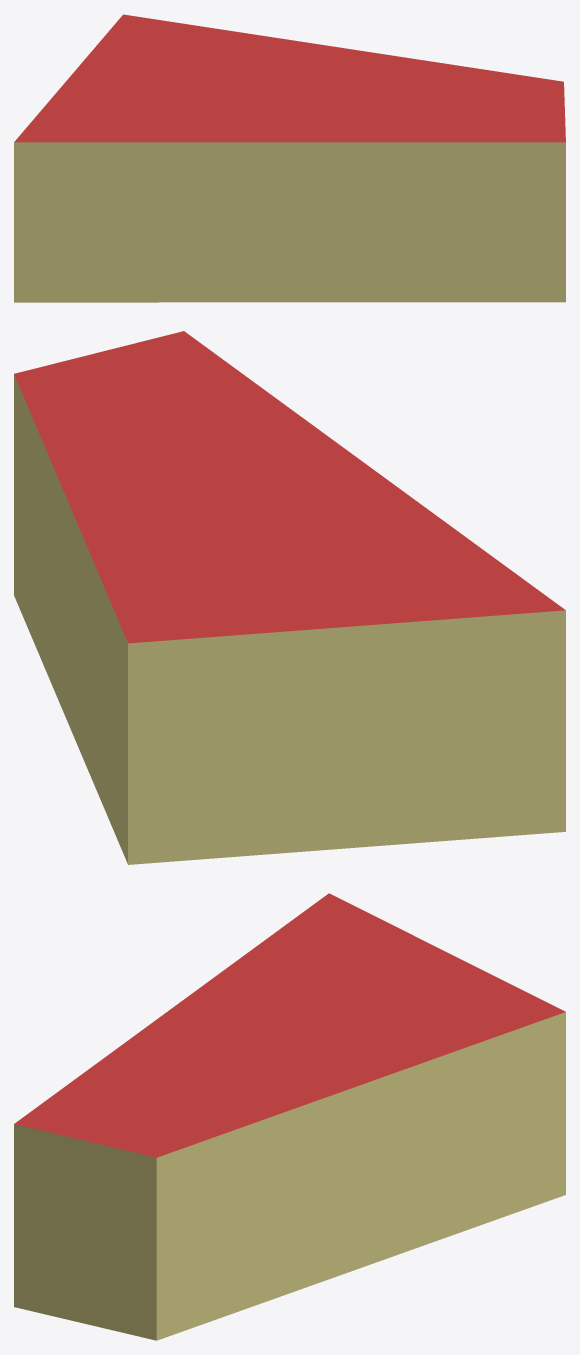
3 renders of one model, top to bottom at view 1: azimuth 30°, elevation 25°; view 2: azimuth 150°, elevation 25°; view 3: azimuth 270°, elevation 25°, orthographic. The views are drawn at different scales.
Visible parts, largest first — view 1: group_4, group_3; view 2: group_4, group_3; view 3: group_4, group_3.
Boxes of the visible parts, <box> form: group_4: <box>14,142,565,302</box>; group_3: <box>14,14,565,142</box>; group_4: <box>14,374,565,864</box>; group_3: <box>14,331,565,643</box>; group_4: <box>14,1012,565,1340</box>; group_3: <box>14,893,565,1157</box>.
Bounding box in the file's own units: 46.01 × 40.57 × 14.84.
